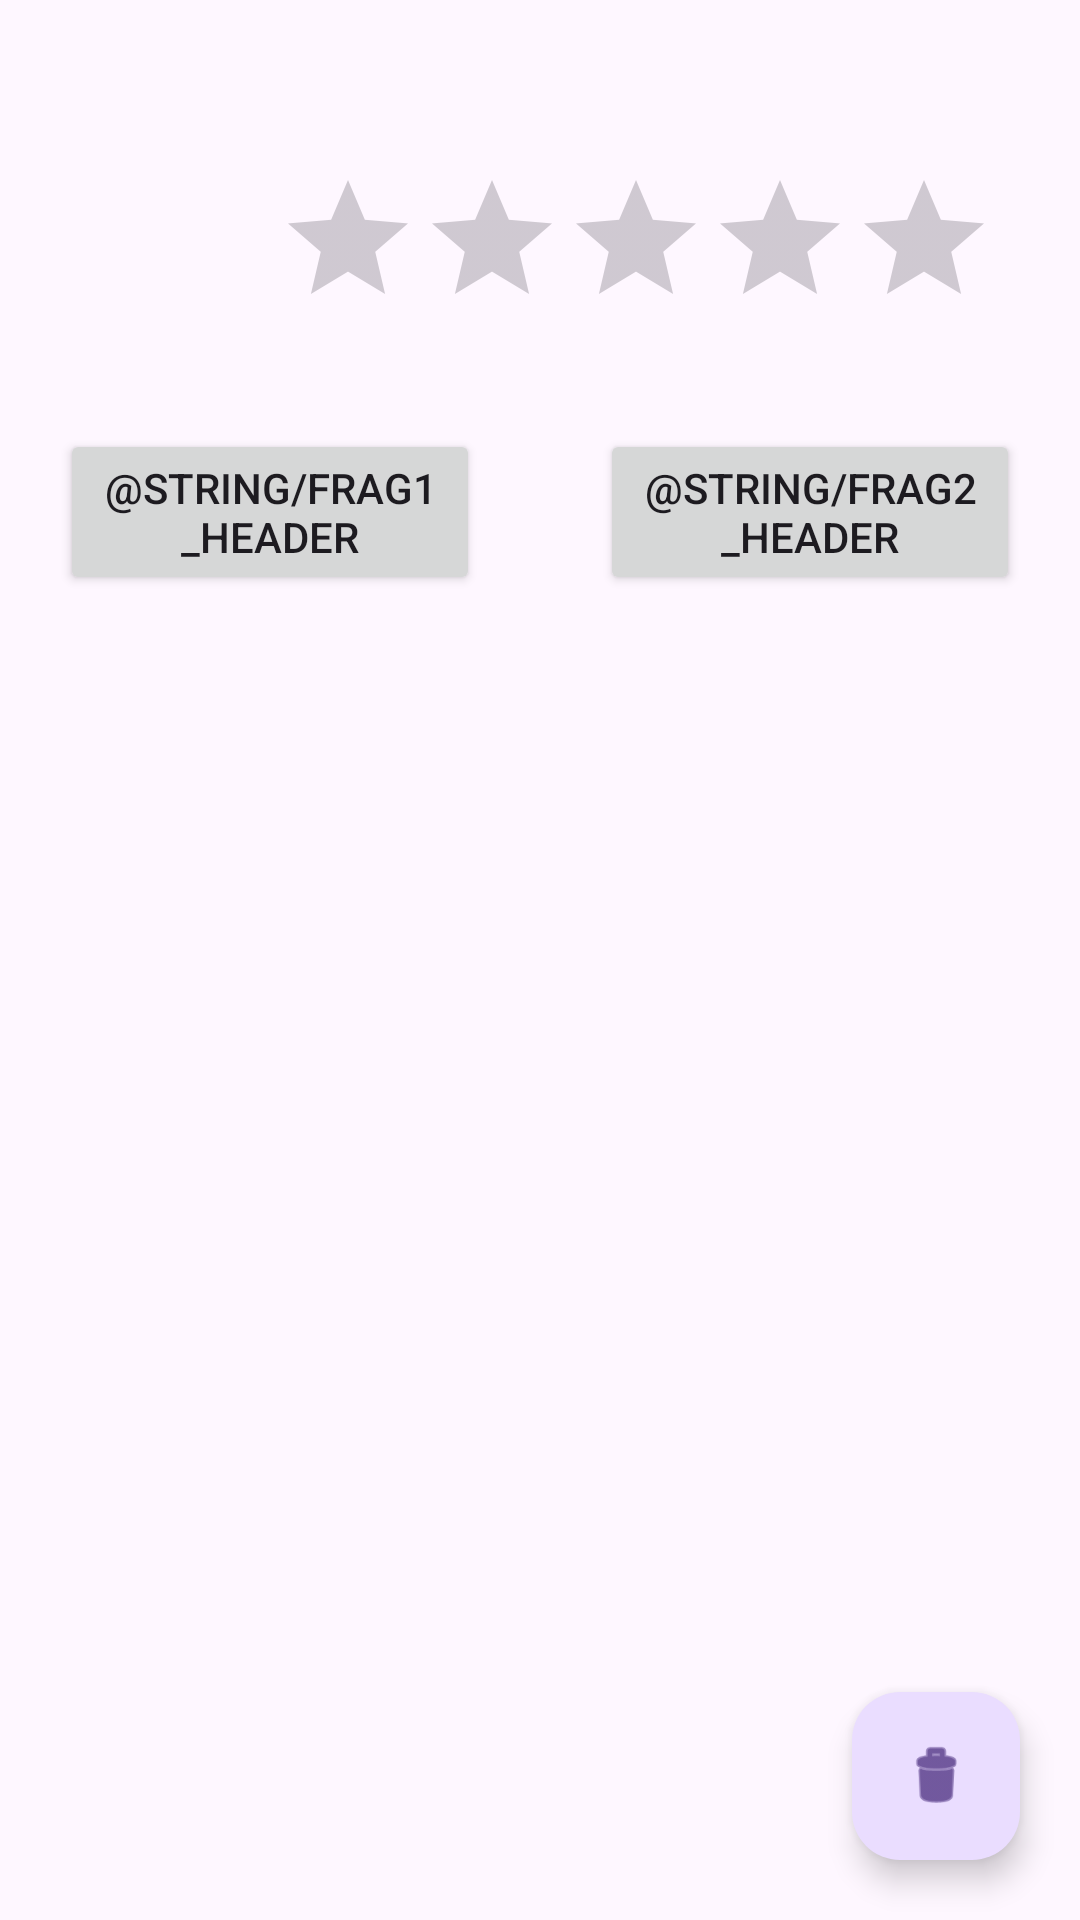

Named icons in this screenshot (1080x1920) and their centers, [x,y]:
delete: [936,1776]
